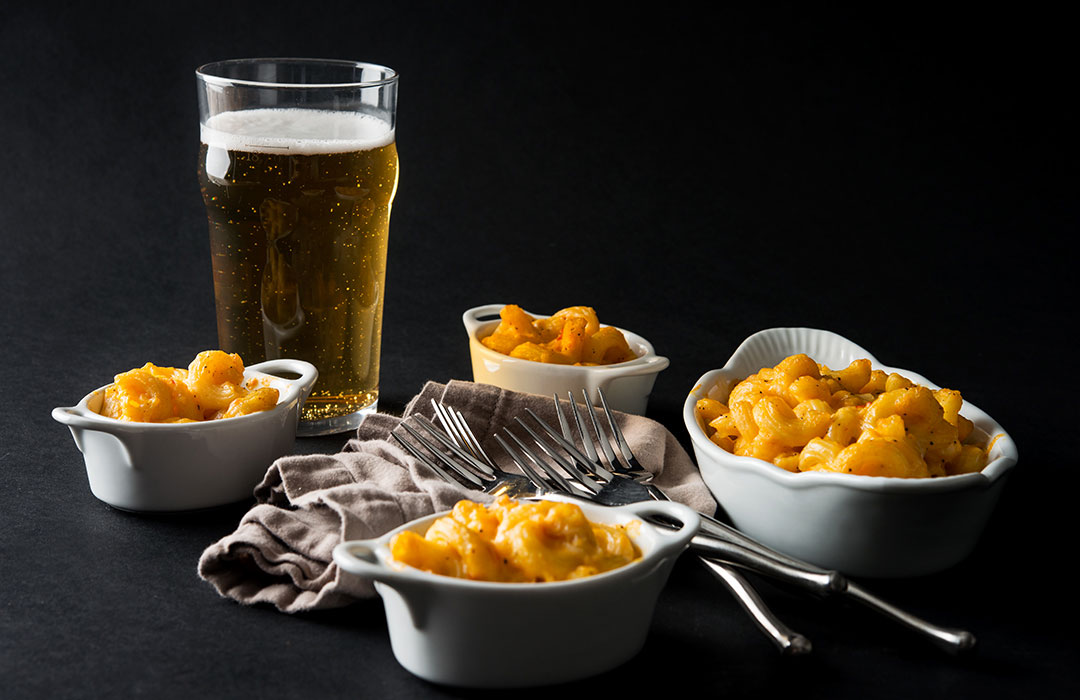cheese: (724, 363, 979, 487), (72, 356, 294, 433), (483, 275, 631, 387), (409, 506, 615, 585)
